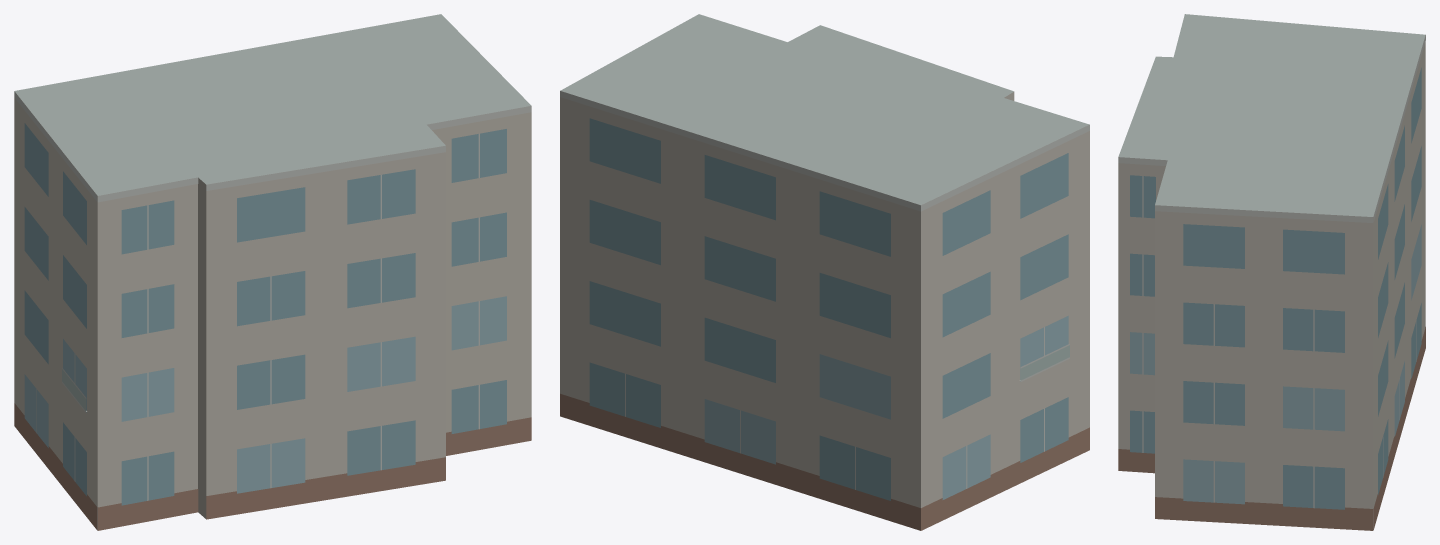
File: survey-upis-32513382.glb
The picture shows the model from 3 angles, left to right: view 1: azimuth 30°, elevation 25°; view 2: azimuth 150°, elevation 25°; view 3: azimuth 270°, elevation 25°; orthographic projection. The views are drawn at different scales.
Visible parts, largest first — view 1: survey-upis-32513382.tmp; view 2: survey-upis-32513382.tmp; view 3: survey-upis-32513382.tmp.
Boxes of the visible parts, x1=… form: survey-upis-32513382.tmp: x1=14, y1=14, x2=531, y2=530; survey-upis-32513382.tmp: x1=560, y1=14, x2=1089, y2=530; survey-upis-32513382.tmp: x1=1118, y1=14, x2=1425, y2=530.
Bounding box in the file's own units: 17.64 × 12.7 × 11.29.
